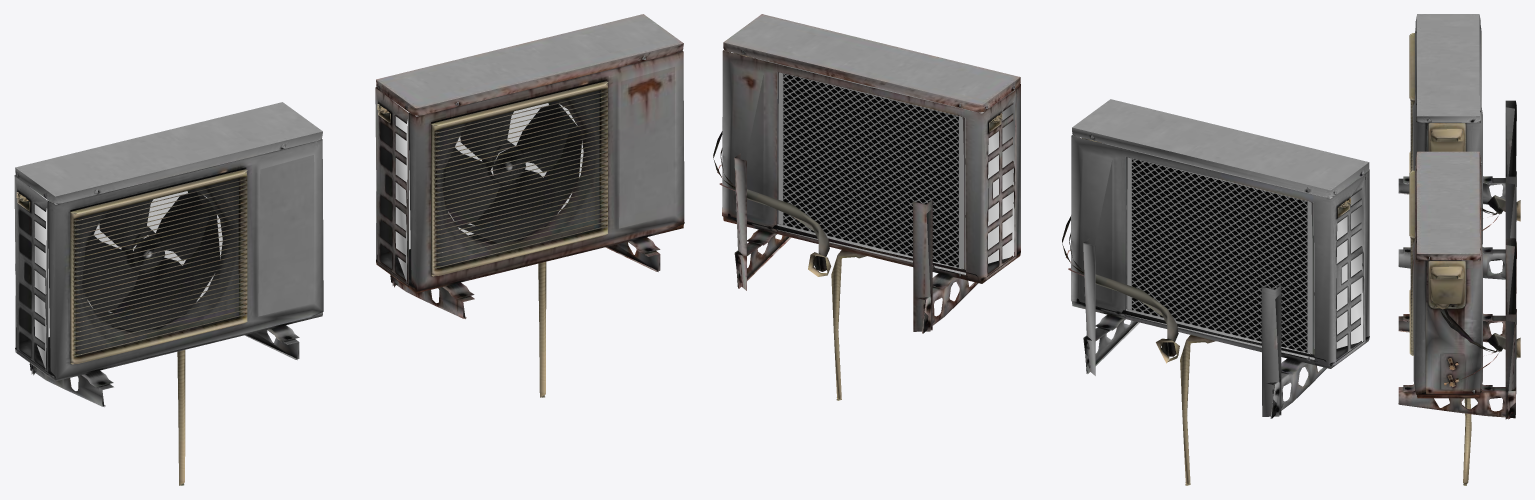
Rendered from aircon.glb.
3 renders of one model, left to right at view 1: azimuth 30°, elevation 25°; view 2: azimuth 150°, elevation 25°; view 3: azimuth 270°, elevation 25°, orthographic. The views are drawn at different scales.
Parts seen in each view (by area): view 1: aircon; view 2: aircon; view 3: aircon.
Part boxes in pixels (x1,y1,x2,y2): aircon: [14, 14, 684, 485]; aircon: [713, 14, 1369, 485]; aircon: [1398, 14, 1520, 485].
Bounding box in the file's own units: 1.8 × 0.9265 × 0.3748.
4 materials, 4 textured.
